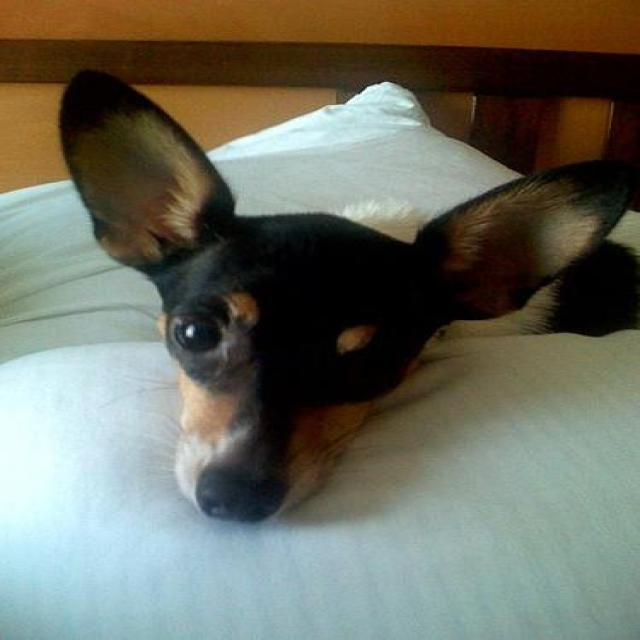toy_terrier: (53, 55, 633, 522)
